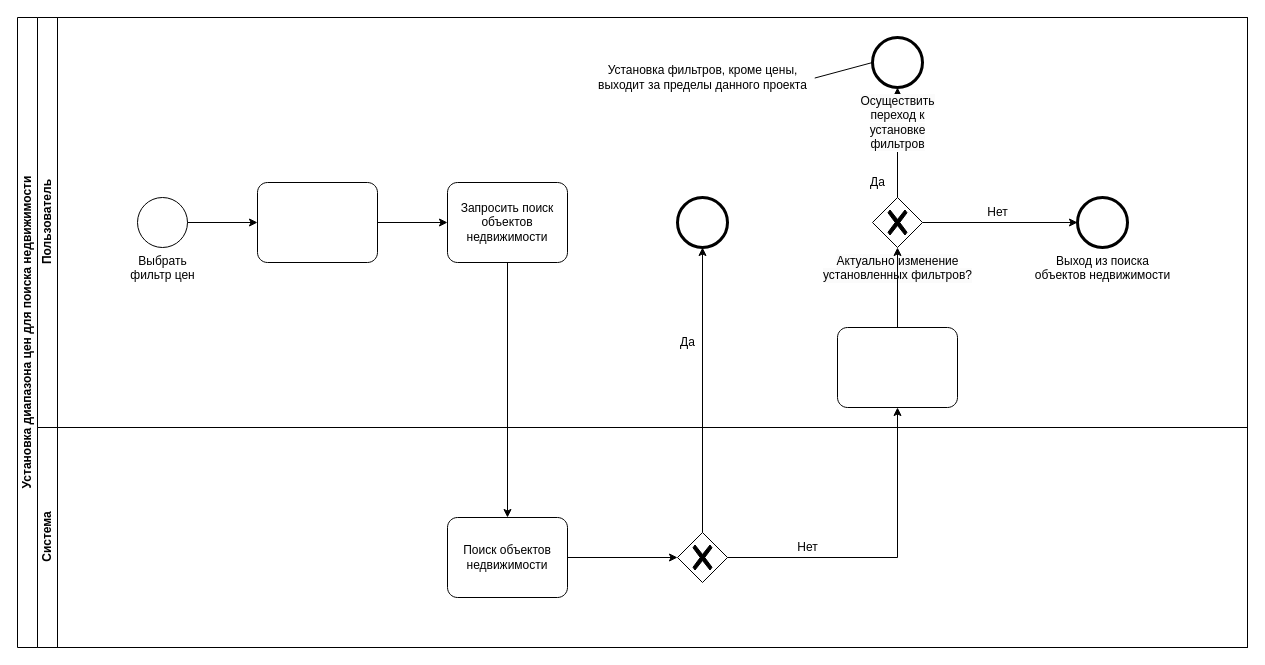
Image size: 1265x665. Some labels were removed from this diagram. Here are the shapes that lost their labels. From the top down, the centre of each, then its label:
point (317, 222): Установить и сохранить диапазон и категорию ("За все" или "За кв.м") цен
point (702, 222): Объекты недвижимости, согласно заданному диапазону цен найдены
point (897, 367): Объекты недвижимости, согласно заданному диапазону цен не найдены
point (702, 557): Объекты найдены?
